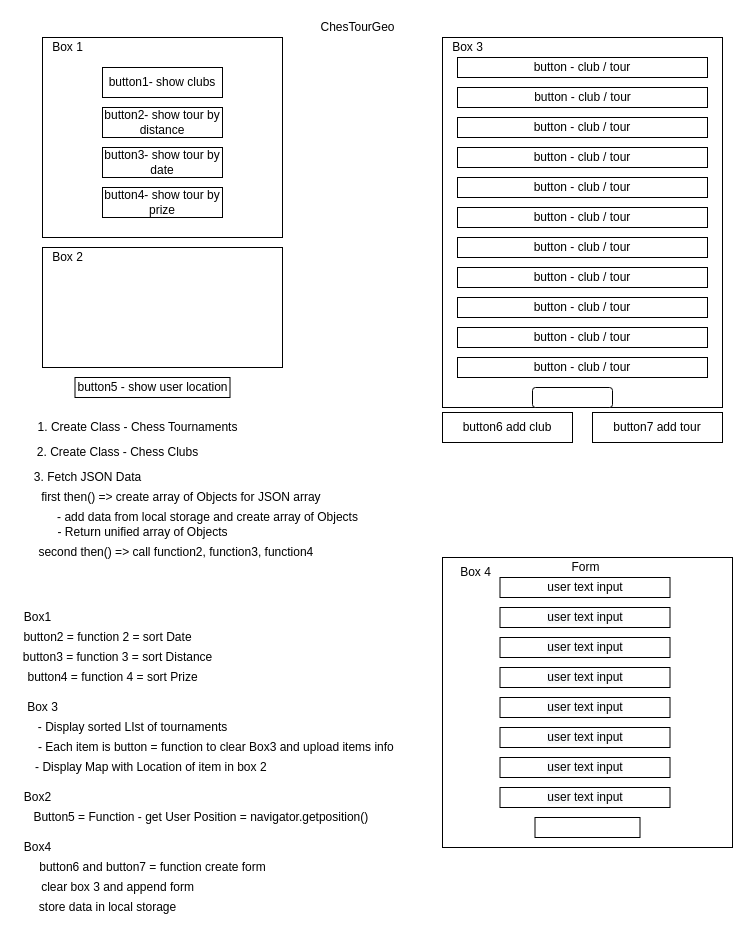
This 750x934 diagram has some shape labels left out. The box of each missing label's shape, as (x1, y1, x2, y2) in pixels:
button - next: (532, 386, 612, 408)
button- submit: (534, 816, 640, 838)
MAP: (42, 246, 282, 368)
